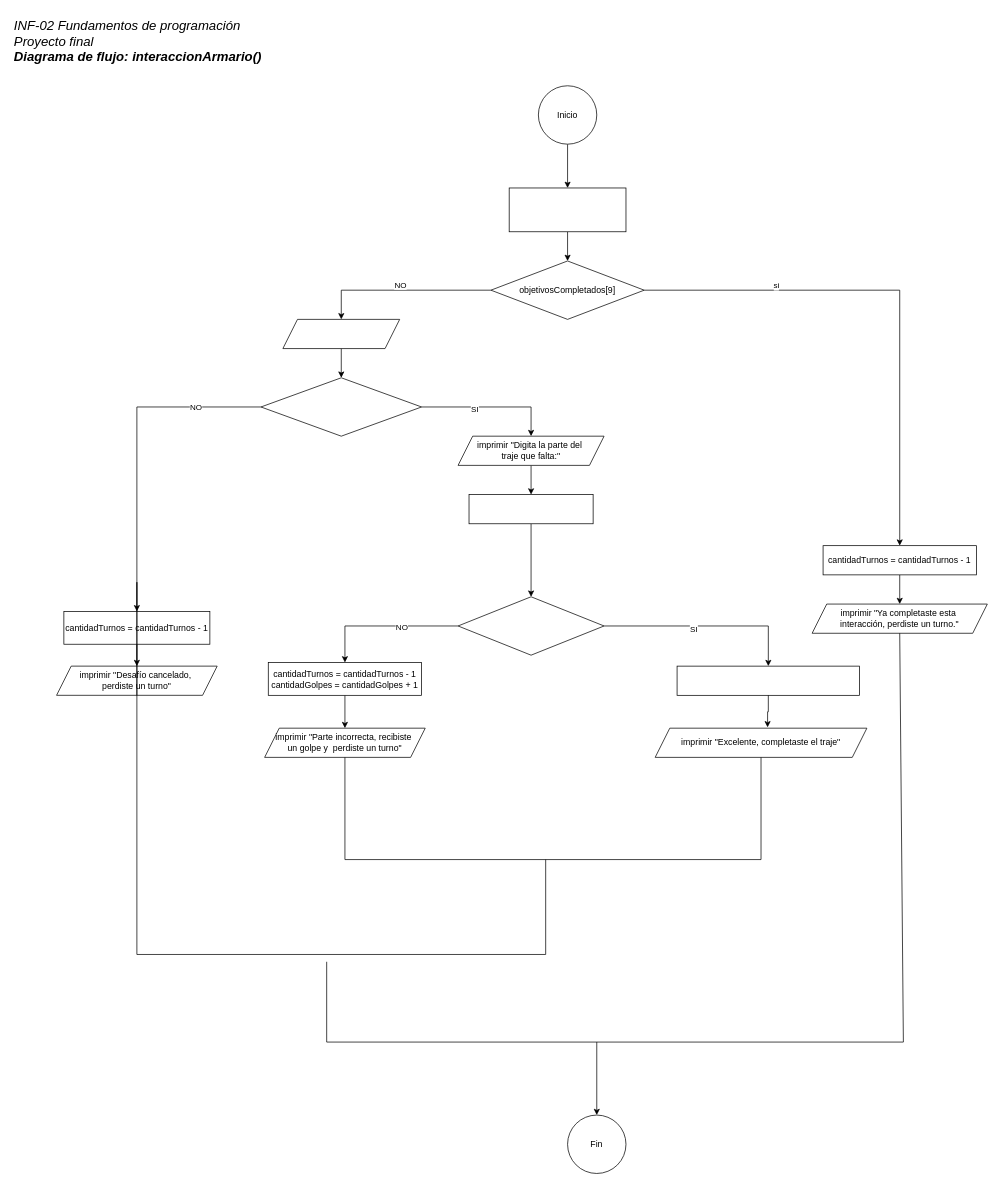
Some shapes in this 1000 by 1186 pixel diagram are drawn without their labels. The centre of each missing label's shape, as x and y in pixels:
cantidadTurnos = cantidadTurnos - 1 objetivosCompletados[9] = true: (768,680)
imprimir "Necesitas completar el traje": (341,334)
leer parteFaltante: (530,509)
opcionUsuario == "s": (341,406)
parteFaltante ="" opcionUsuario = "": (567,209)
parteFaltante == "mochila": (530,625)
